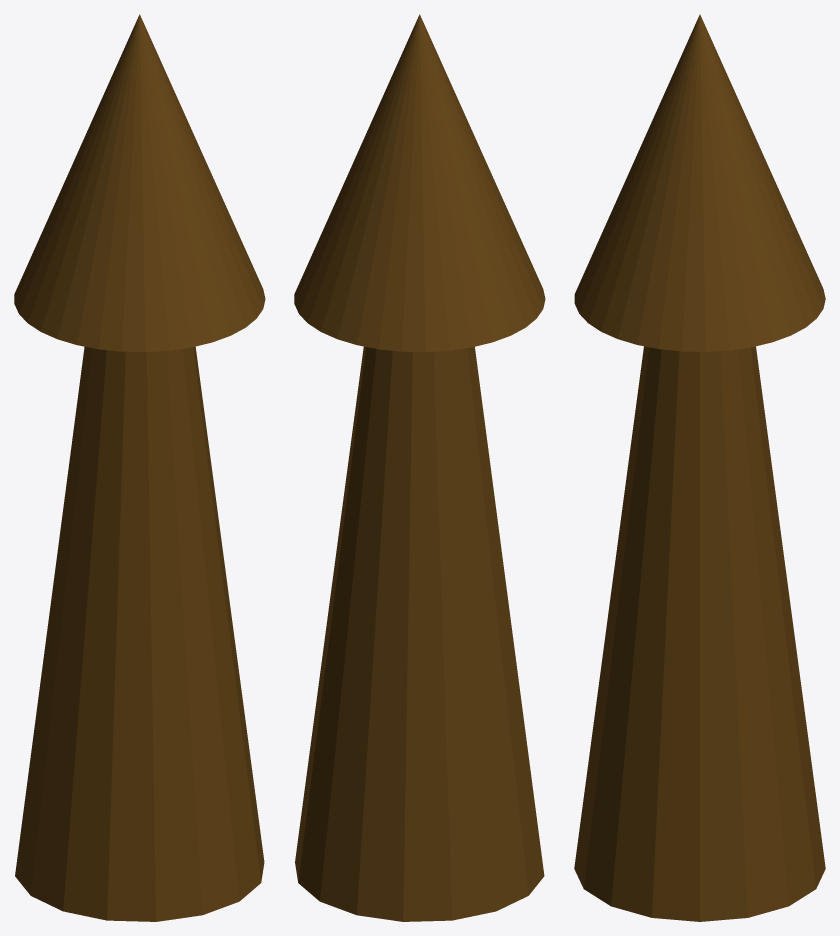
Rendered from brush_tip_extension.dae.
3 views of the same model, side by side, from view 1: azimuth 30°, elevation 25°; view 2: azimuth 150°, elevation 25°; view 3: azimuth 270°, elevation 25° (orthographic).
Parts seen in each view (by area): view 1: brush_tip_extension; view 2: brush_tip_extension; view 3: brush_tip_extension.
Part boxes in pixels (x1,y1,x2,y2): brush_tip_extension: (14, 14, 265, 921); brush_tip_extension: (294, 14, 545, 921); brush_tip_extension: (574, 14, 825, 921).
Size of the model in its own units: 0.016 by 0.016 by 0.06.
